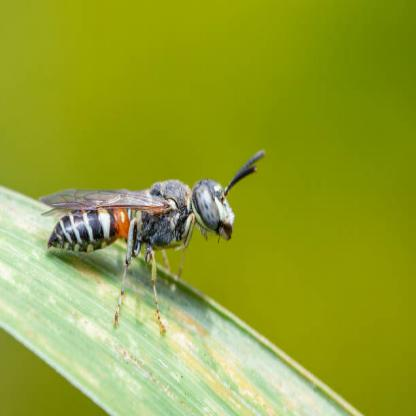sawfly: (42, 145, 265, 333)
